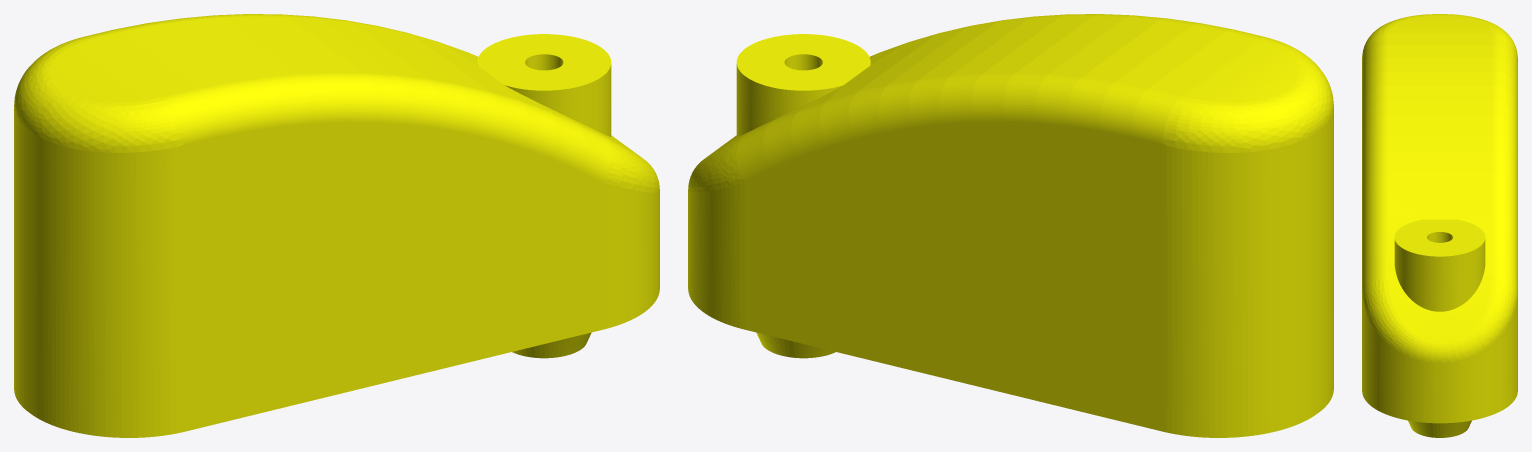
The picture shows the model from 3 angles, left to right: view 1: azimuth 30°, elevation 25°; view 2: azimuth 150°, elevation 25°; view 3: azimuth 270°, elevation 25°; orthographic projection. The views are drawn at different scales.
Parts seen in each view (by area): view 1: node0; view 2: node0; view 3: node0.
Part boxes in pixels (<box>): node0: <box>14,14,659,437</box>; node0: <box>688,14,1333,437</box>; node0: <box>1362,14,1517,437</box>.
Bounding box in the file's own units: 0.37 × 0.12 × 0.2152.
